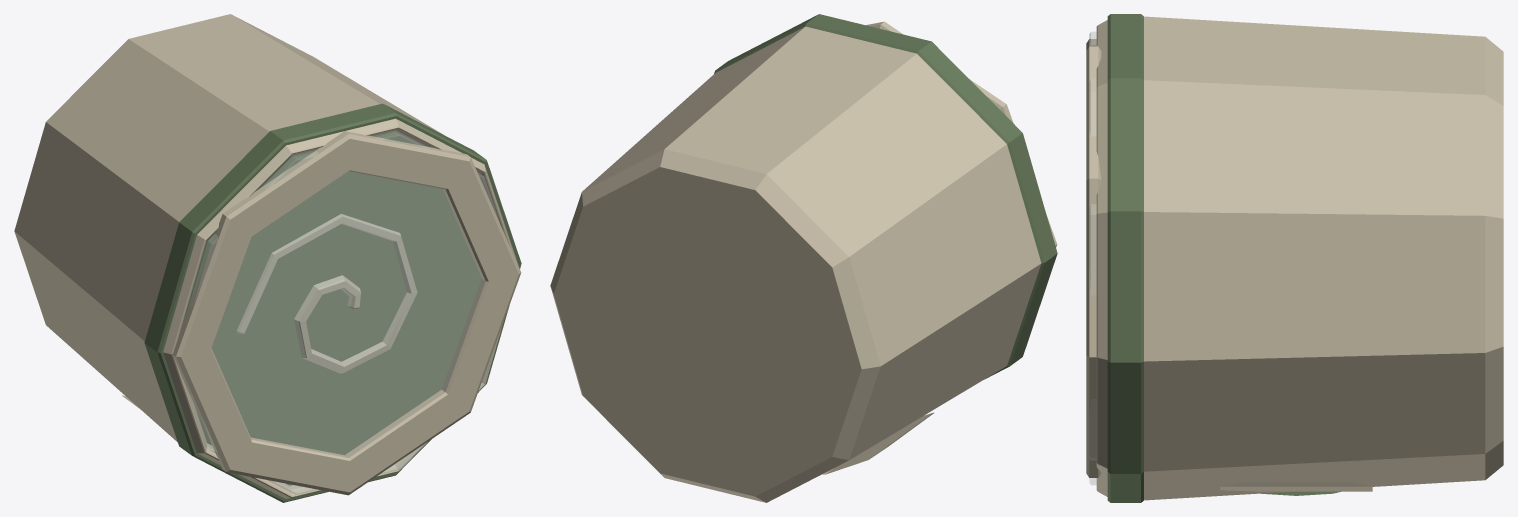
Rendered from mascarpone.glb.
3 views of the same model, side by side, from view 1: azimuth 30°, elevation 25°; view 2: azimuth 150°, elevation 25°; view 3: azimuth 270°, elevation 25° (orthographic). The views are drawn at different scales.
Parts seen in each view (by area): view 1: mascarpone; view 2: mascarpone; view 3: mascarpone.
Part boxes in pixels (box(x1,y1,x2,y2)): mascarpone: box(14, 14, 521, 502); mascarpone: box(550, 14, 1057, 502); mascarpone: box(1086, 14, 1503, 502).
Size of the model in its own units: 0.097 by 0.095 by 0.0822.
